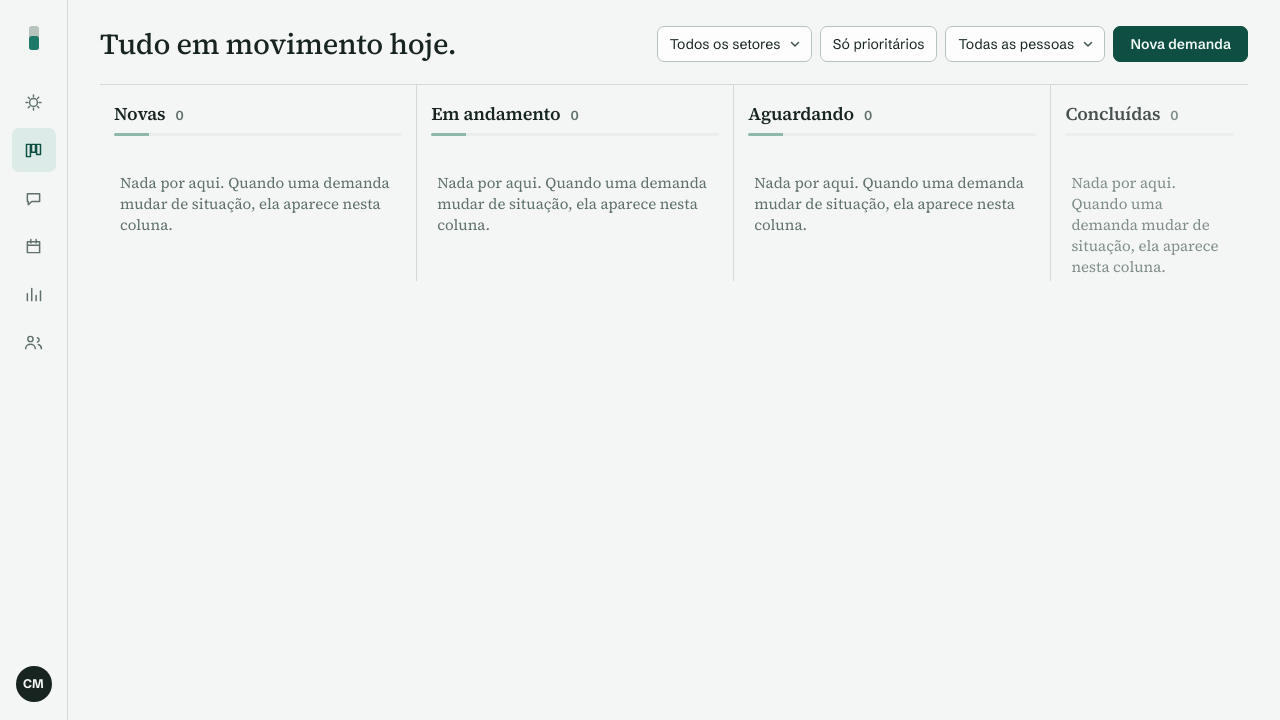
Test: new demand dialog › does not send an empty title
This screenshot has width=1280, height=720.
What coordinates should you click on to do the following:
click the button "Nova demanda"
I would click on:
 (1181, 44)
Its box is [1114,26,1248,62].
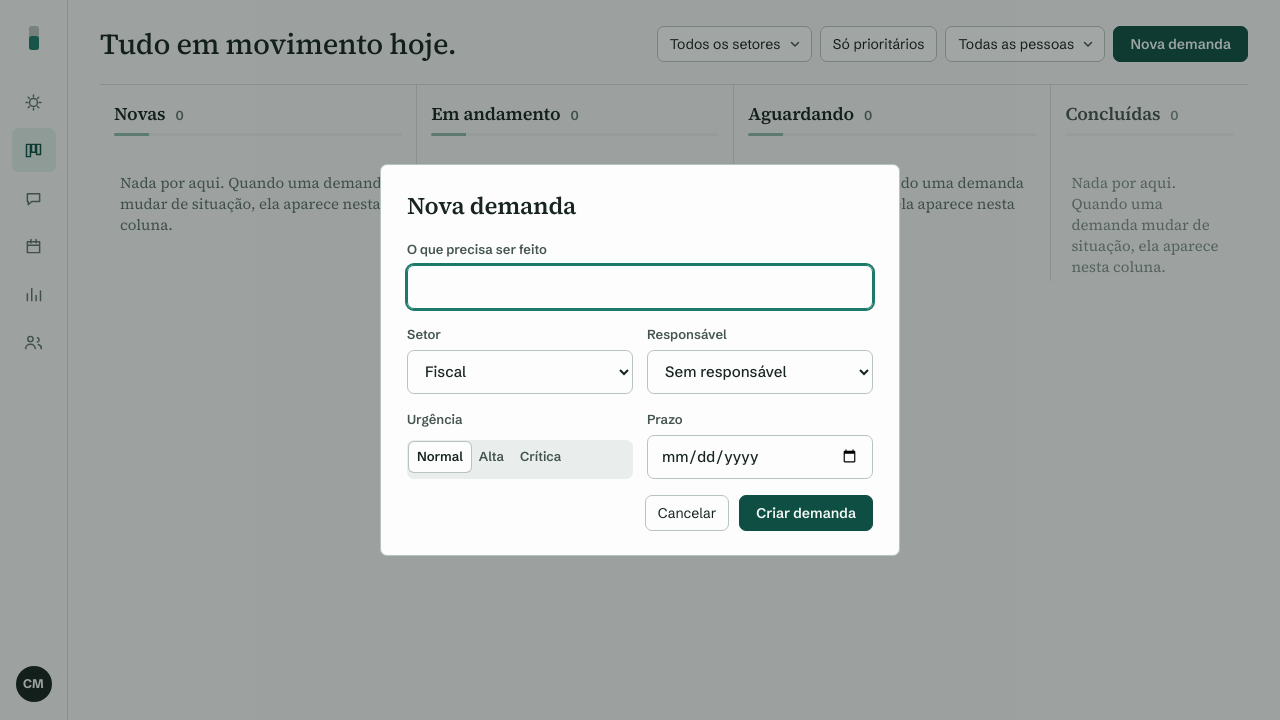
What coordinates should you click on to do the following:
click the button "Criar demanda"
I would click on:
 (806, 513)
Its box is [739,495,873,531].
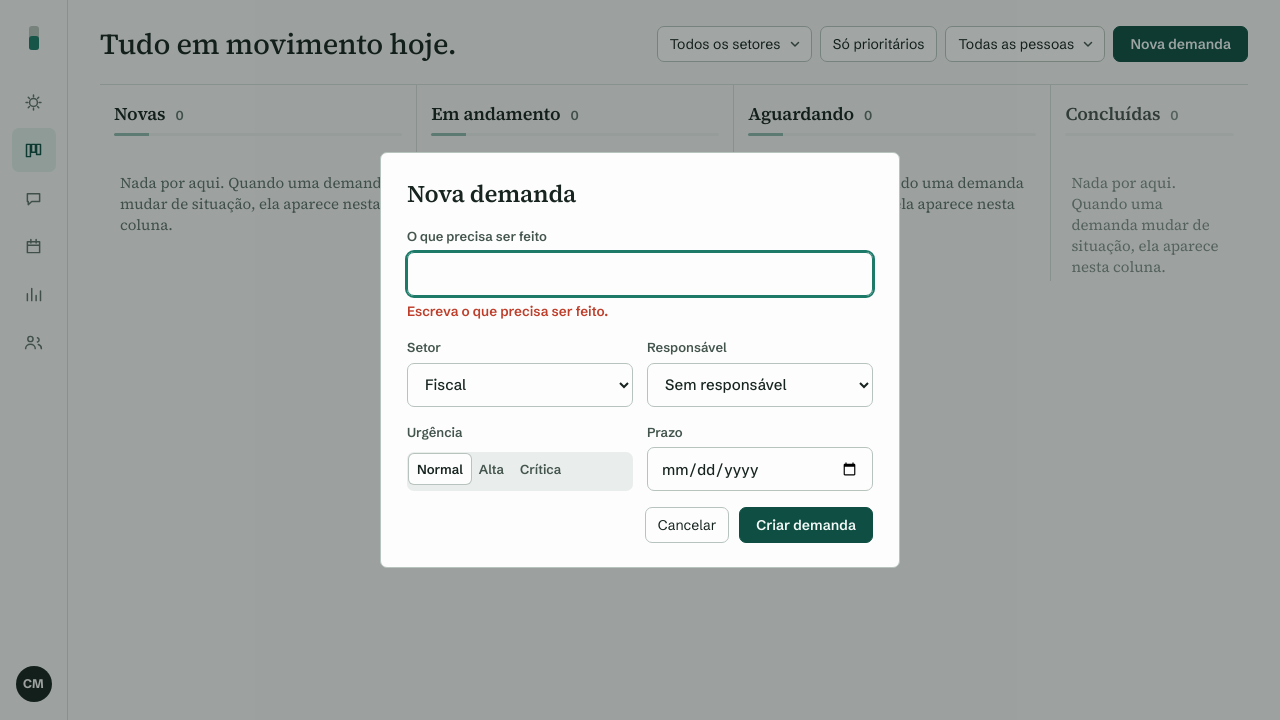
expect the text "Escreva o que precisa ser feito." is shown: met, box [407,303,608,319]
